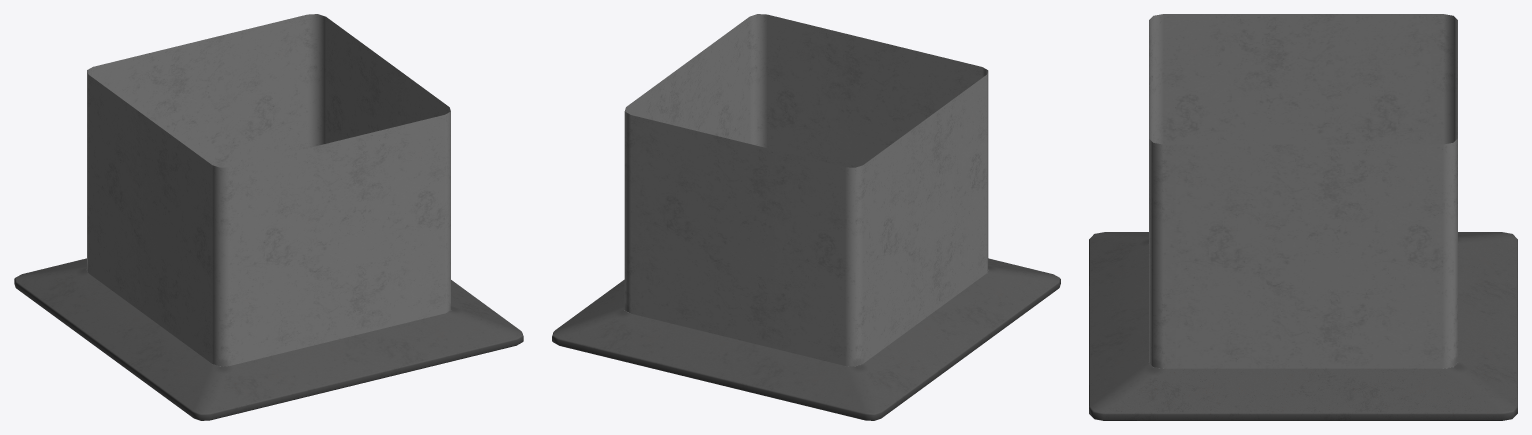
The model's file is AirductVent_geo.fbx.
The picture shows the model from 3 angles, left to right: view 1: azimuth 30°, elevation 25°; view 2: azimuth 150°, elevation 25°; view 3: azimuth 270°, elevation 25°; orthographic projection. The views are drawn at different scales.
Parts seen in each view (by area): view 1: Airduct_Vent; view 2: Airduct_Vent; view 3: Airduct_Vent.
Part boxes in pixels (box(x1,y1,x2,y2)): Airduct_Vent: box(14, 14, 523, 420); Airduct_Vent: box(552, 14, 1060, 420); Airduct_Vent: box(1089, 14, 1517, 420).
Size of the model in its own units: 289 by 192 by 289.
1 material, 1 textured.
